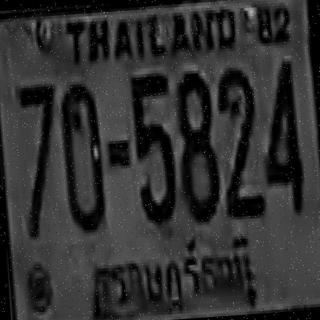N00: (58, 80, 105, 231)
N02: (215, 65, 262, 216)
N04: (256, 58, 303, 212)
N05: (129, 70, 176, 223)
N07: (15, 80, 62, 237)
N08: (173, 67, 220, 220)
P67: (80, 227, 262, 318)
